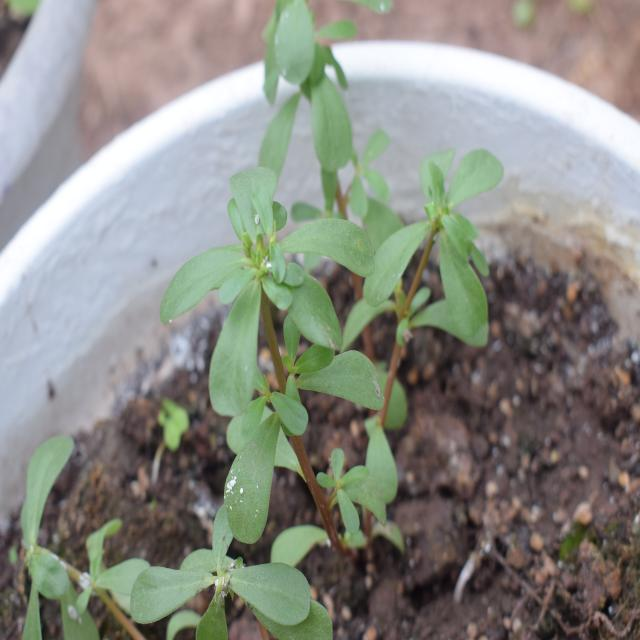purslane: (164, 122, 497, 556)
